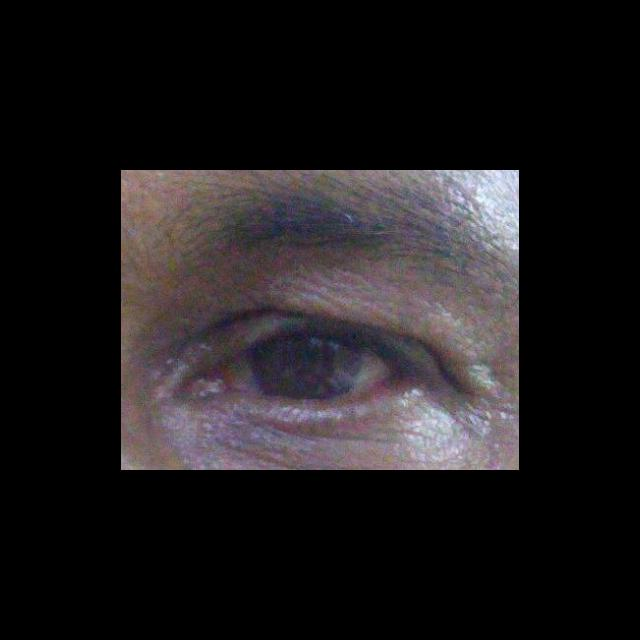eye: (236, 335, 396, 398)
iris: (251, 338, 365, 395)
